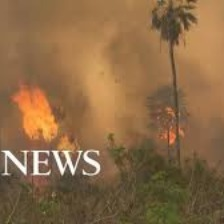incendio: (128, 51, 212, 173), (16, 85, 83, 155)
